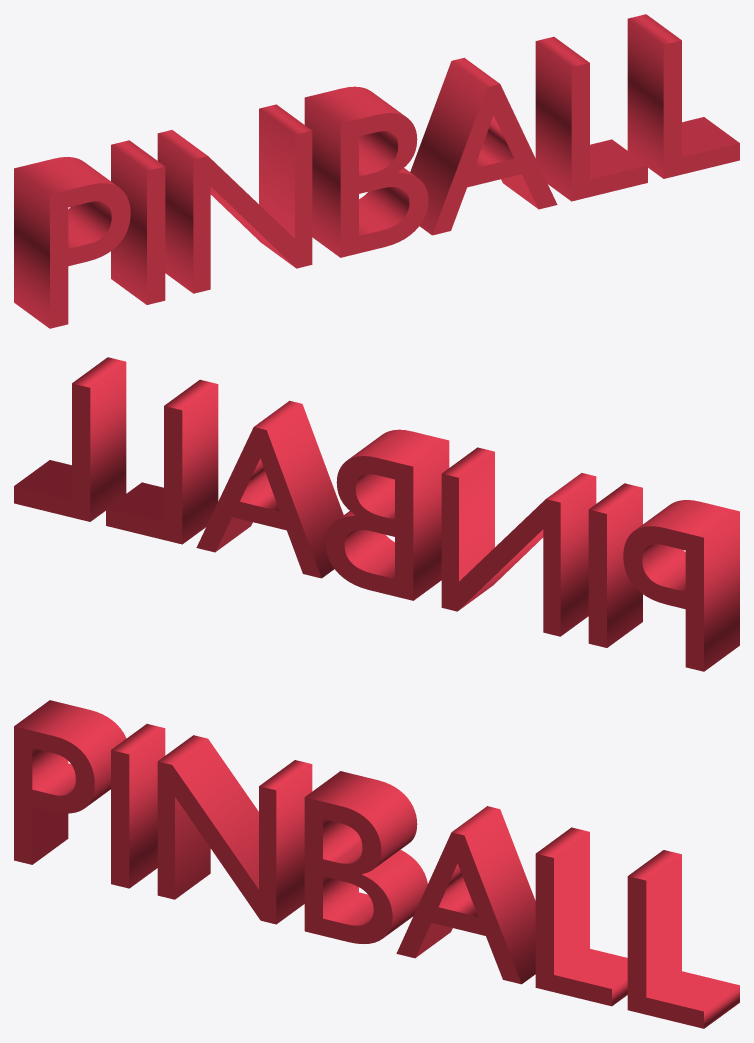
3 renders of one model, top to bottom at view 1: azimuth 30°, elevation 25°; view 2: azimuth 150°, elevation 25°; view 3: azimuth 330°, elevation 25°, orthographic.
Visible parts, largest first — view 1: Object; view 2: Object; view 3: Object.
Part boxes in pixels (<box>): Object: <box>14,14,739,328</box>; Object: <box>14,357,739,671</box>; Object: <box>14,700,739,1028</box>.
Bounding box in the file's own units: 422 × 78.89 × 38.
